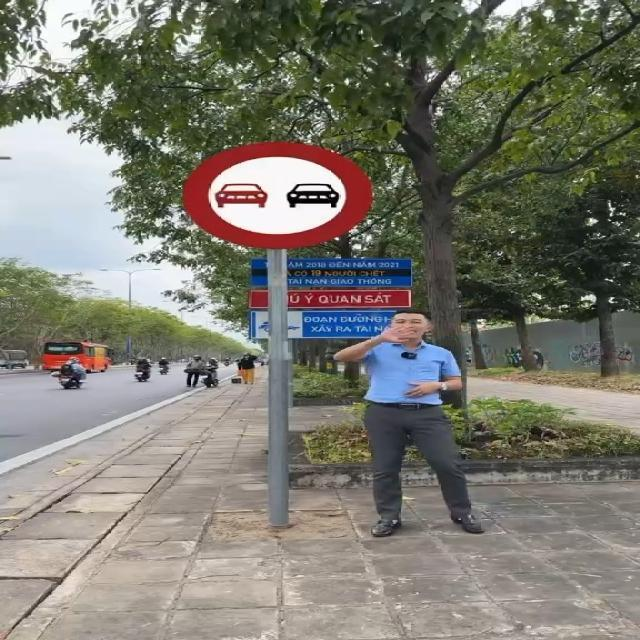125-cam-vuot: (175, 138, 373, 247)
